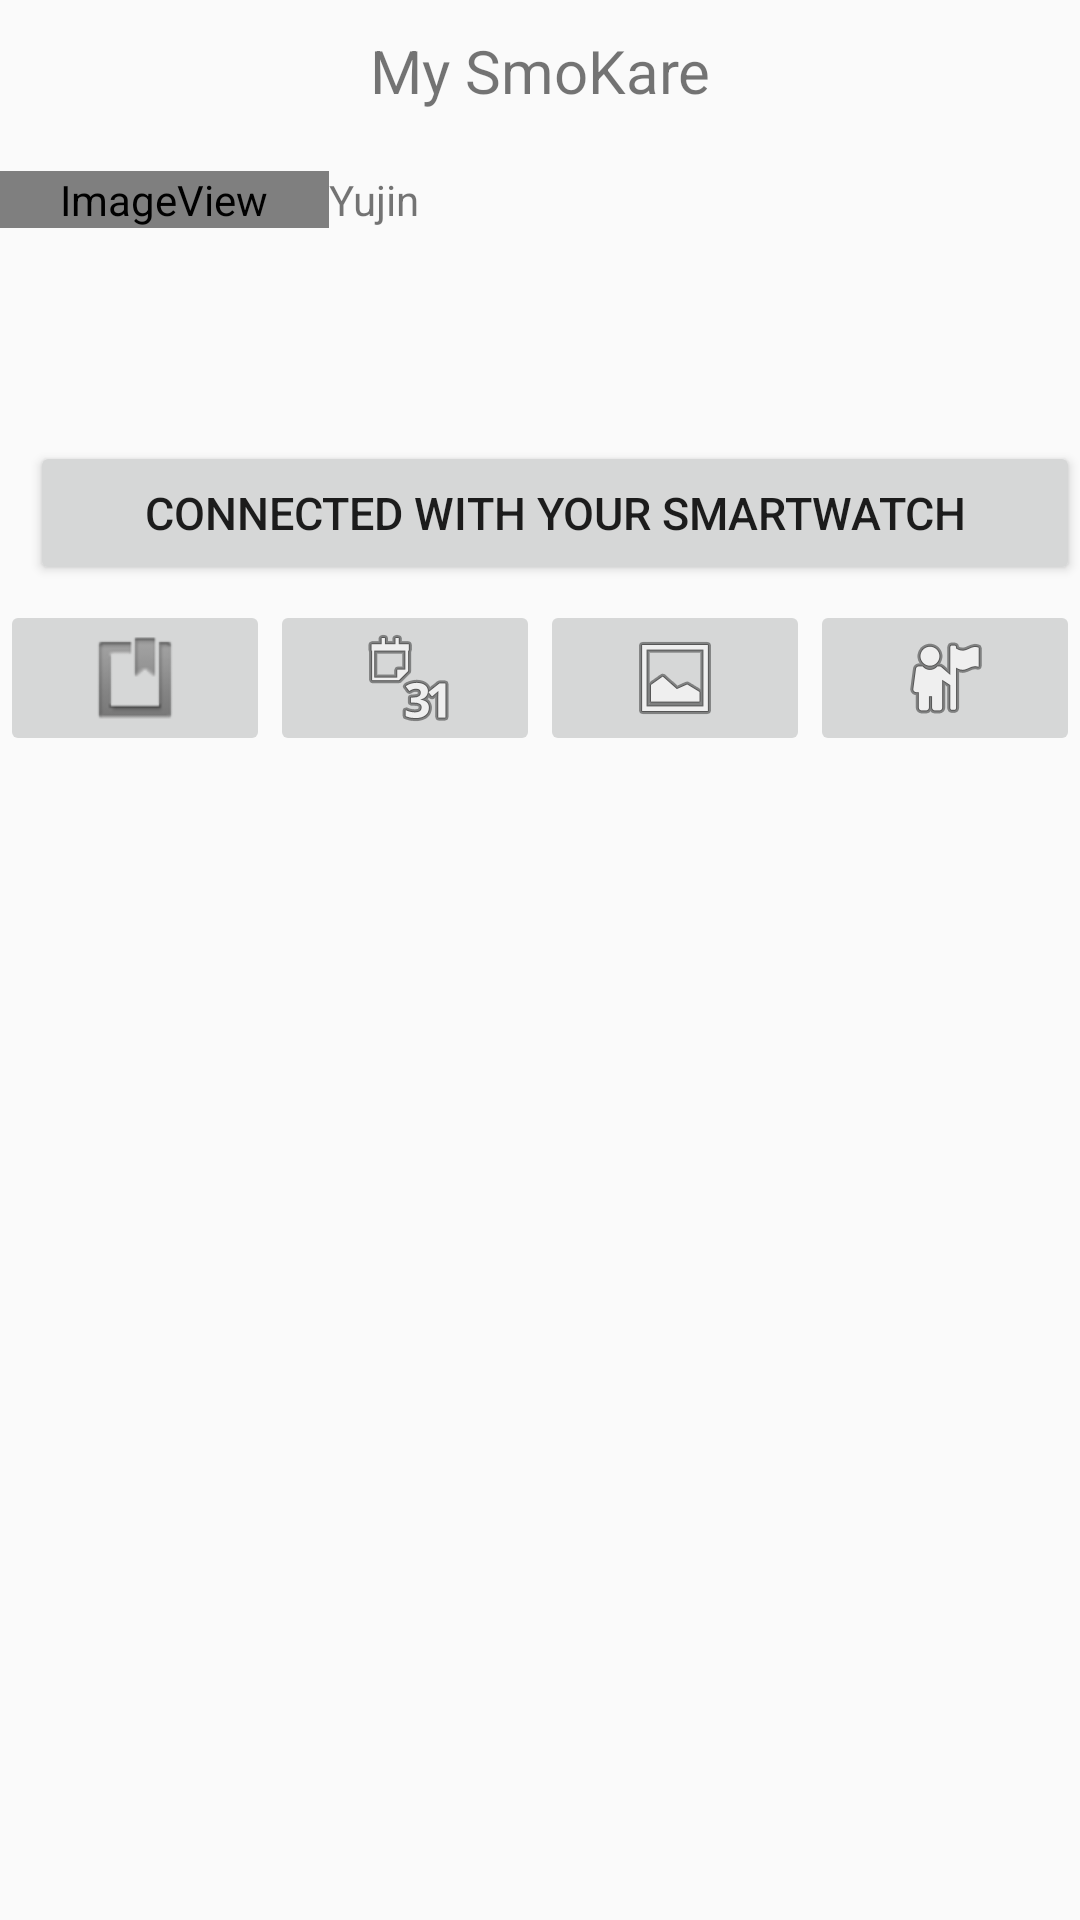

Named icons in this screenshot (1080w x 1920h) and their bounding boxes, (x1,y1,x2,y2):
gallery: (552,618,798,738)
month: (282,618,528,738)
myplaces: (822,618,1068,738)
